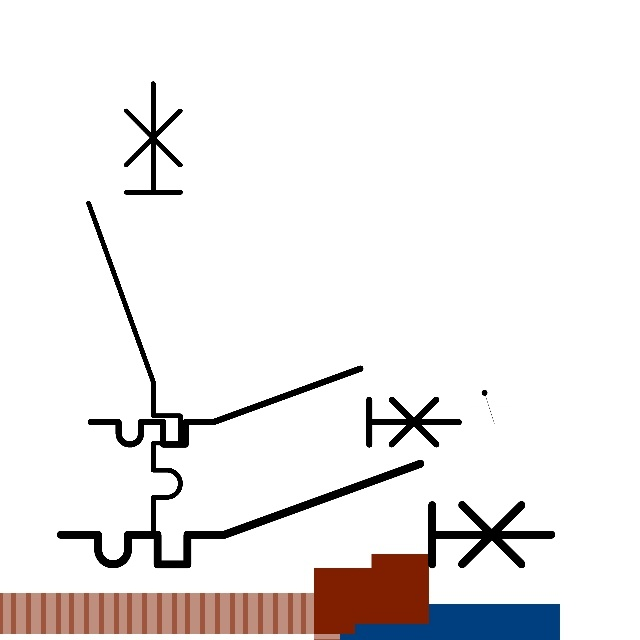interruptor_termomagnetico: (48, 451, 564, 577), (77, 72, 192, 543), (81, 359, 468, 454)
